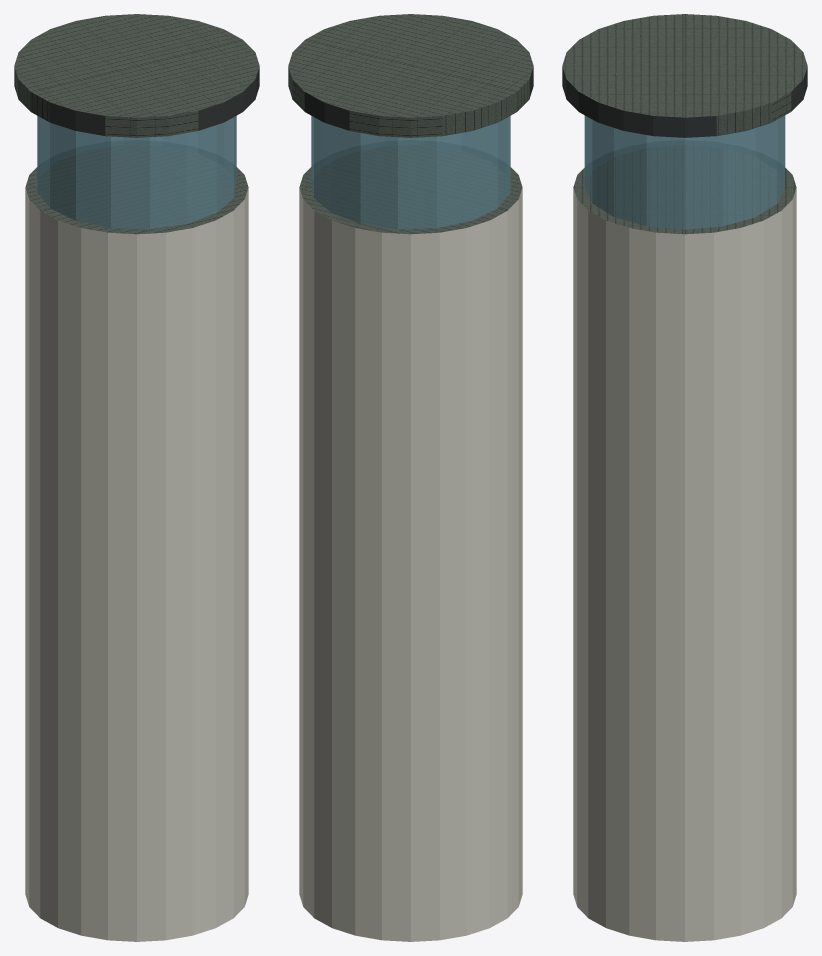
File: damaged1.gltf
The picture shows the model from 3 angles, left to right: view 1: azimuth 30°, elevation 25°; view 2: azimuth 150°, elevation 25°; view 3: azimuth 270°, elevation 25°; orthographic projection.
Visible parts, largest first — view 1: britainlighthouse_damaged1; view 2: britainlighthouse_damaged1; view 3: britainlighthouse_damaged1.
Boxes of the visible parts, box(x1,y1,x2,y2) form: britainlighthouse_damaged1: box(14, 14, 259, 941); britainlighthouse_damaged1: box(288, 14, 533, 941); britainlighthouse_damaged1: box(562, 14, 807, 941).
Bounding box in the file's own units: 11 × 41 × 11.
4 materials, 1 textured.
